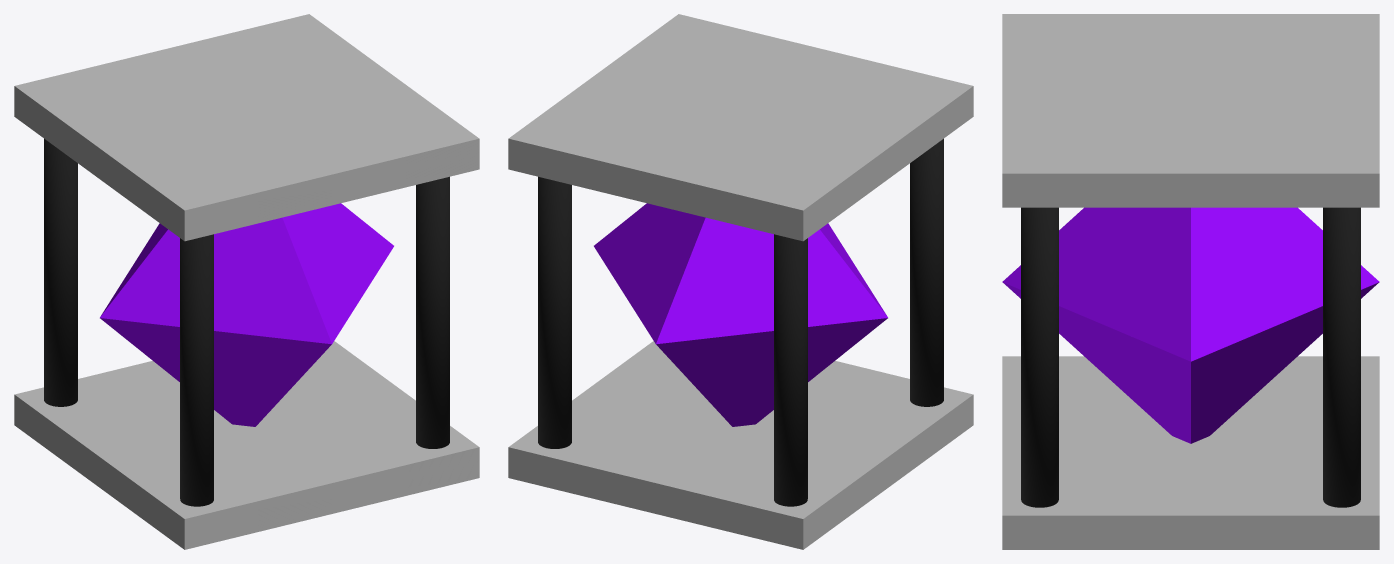
The model's file is turret enemy.fbx.
The picture shows the model from 3 angles, left to right: view 1: azimuth 30°, elevation 25°; view 2: azimuth 150°, elevation 25°; view 3: azimuth 270°, elevation 25°; orthographic projection. The views are drawn at different scales.
Visible parts, largest first — view 1: 立方体.001, 立方体, 円錐, 円錐.001, 円柱.003, 円柱.001, 円柱.002; view 2: 立方体.001, 立方体, 円錐, 円錐.001, 円柱.002, 円柱, 円柱.003; view 3: 立方体.001, 立方体, 円錐, 円錐.001, 円柱, 円柱.001.
Part boxes in pixels (x1,y1,x2,y2): 立方体.001: (14,14,479,241); 立方体: (14,341,479,549); 円錐: (100,203,393,344); 円錐.001: (100,318,331,426); 円柱.003: (180,234,213,506); 円柱.001: (416,176,449,448); 円柱.002: (44,138,77,406); 立方体.001: (508,14,973,241); 立方体: (508,341,973,549); 円錐: (594,203,887,344); 円錐.001: (656,318,887,426); 円柱.002: (774,234,807,506); 円柱: (538,176,571,448); 円柱.003: (910,138,943,406); 立方体.001: (1002,14,1379,207); 立方体: (1002,356,1379,549); 円錐: (1002,207,1379,361); 円錐.001: (1002,282,1379,443); 円柱: (1323,207,1360,507); 円柱.001: (1021,207,1058,507).
Bounding box in the file's own units: 200 × 220 × 200.
